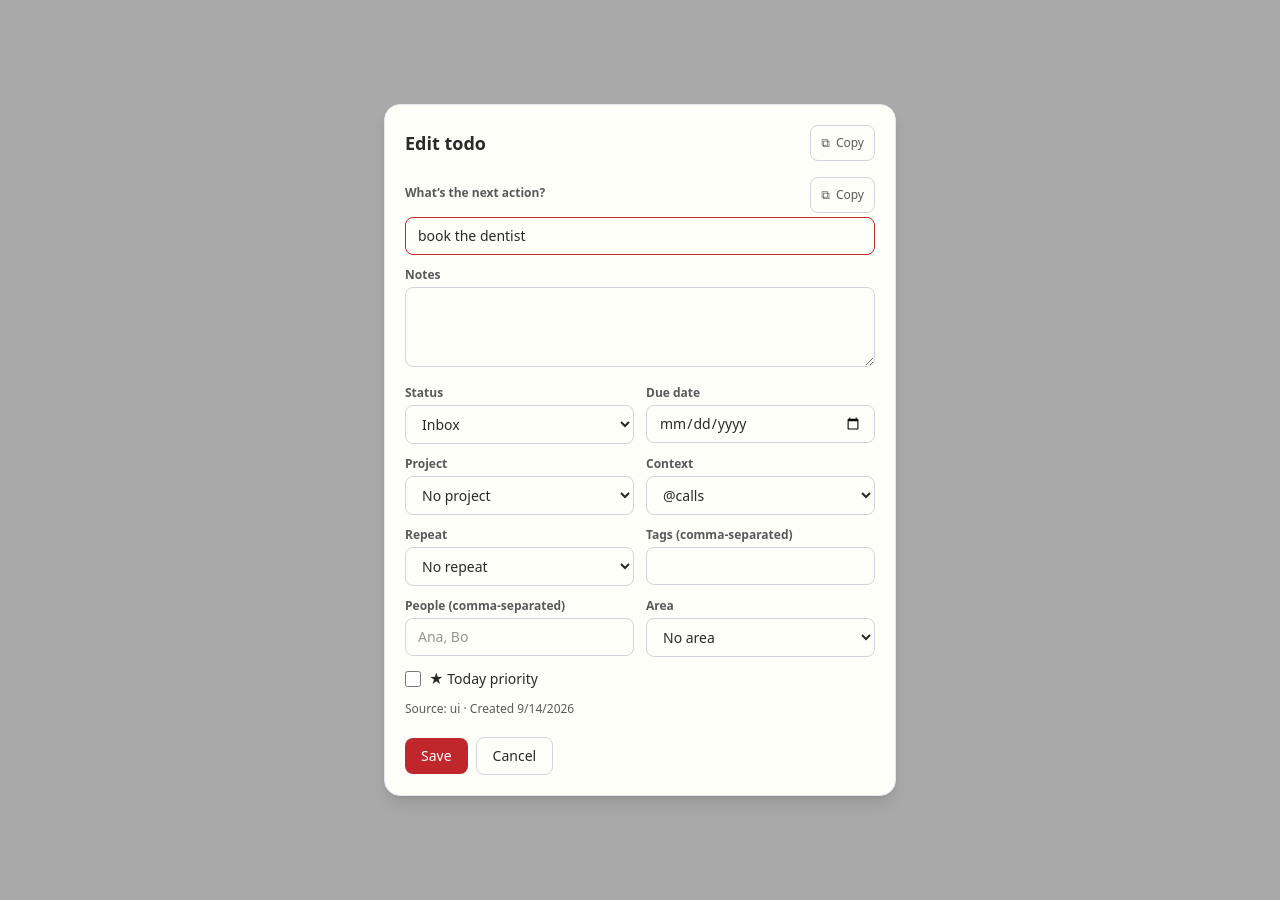
the edit sheet and a pending filing undo › files an inbox item from the sheet with the same undo the picker gives
Later steps or results of the test are not shown.
Select "@calls" in the dropdown with id "tgtd-context" at (760, 496), box [646,476,875,515]
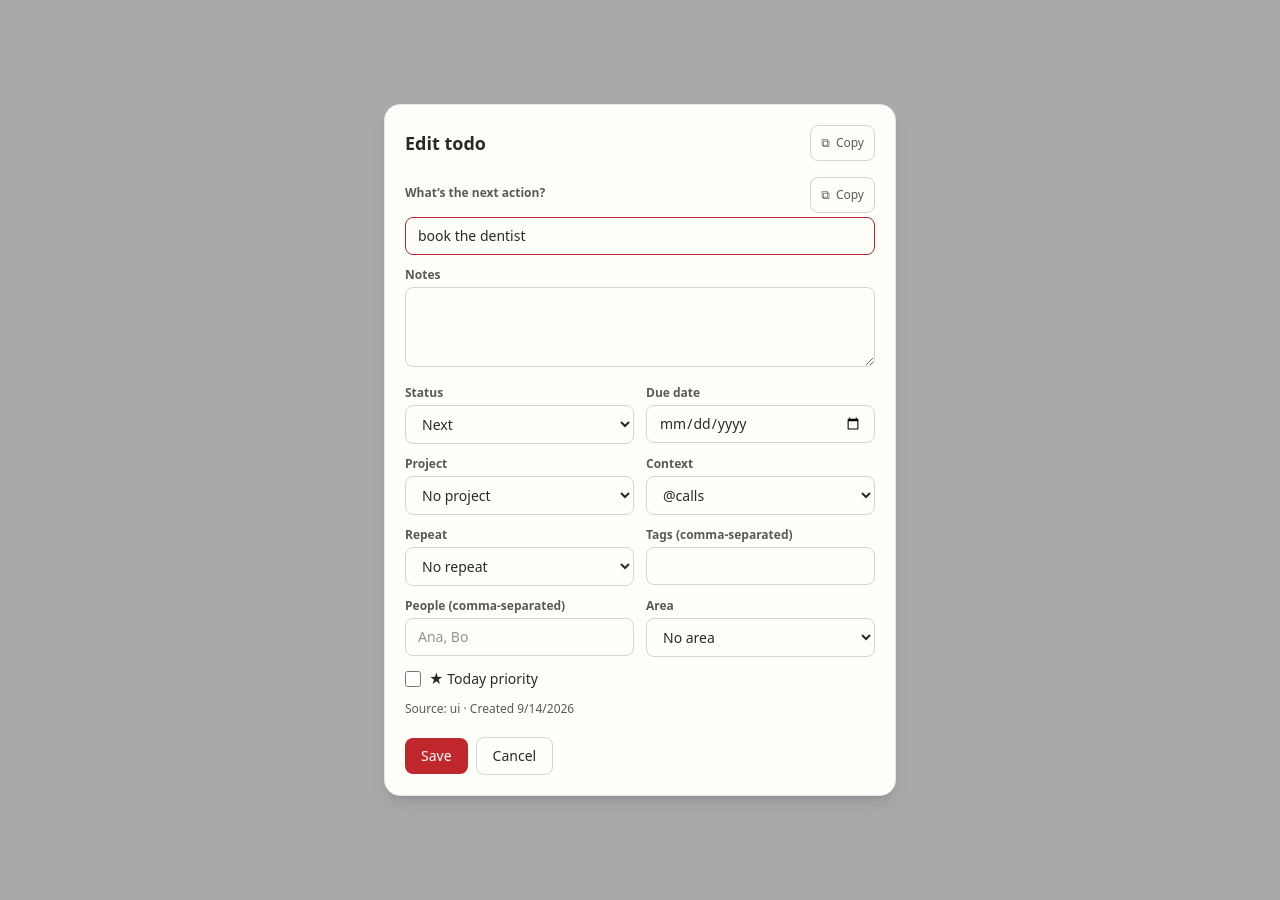
Select "Next" in the dropdown with id "tgtd-status" at (520, 424), box [405,405,634,444]
Click the button "Save" at (436, 756), box [405,738,468,774]
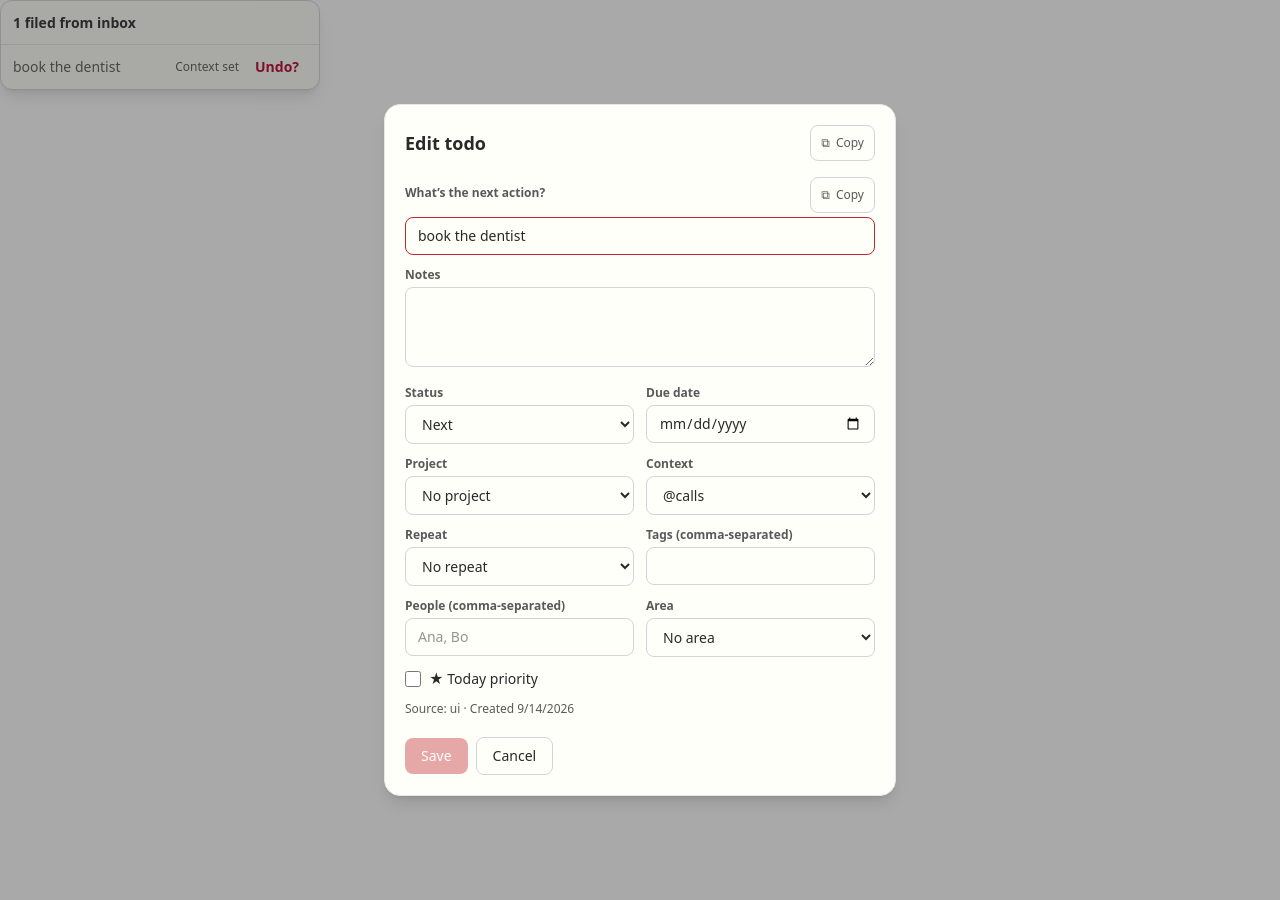
Now the list item "book the dentist Context set Undo?" is shown, box [1,45,319,89]
